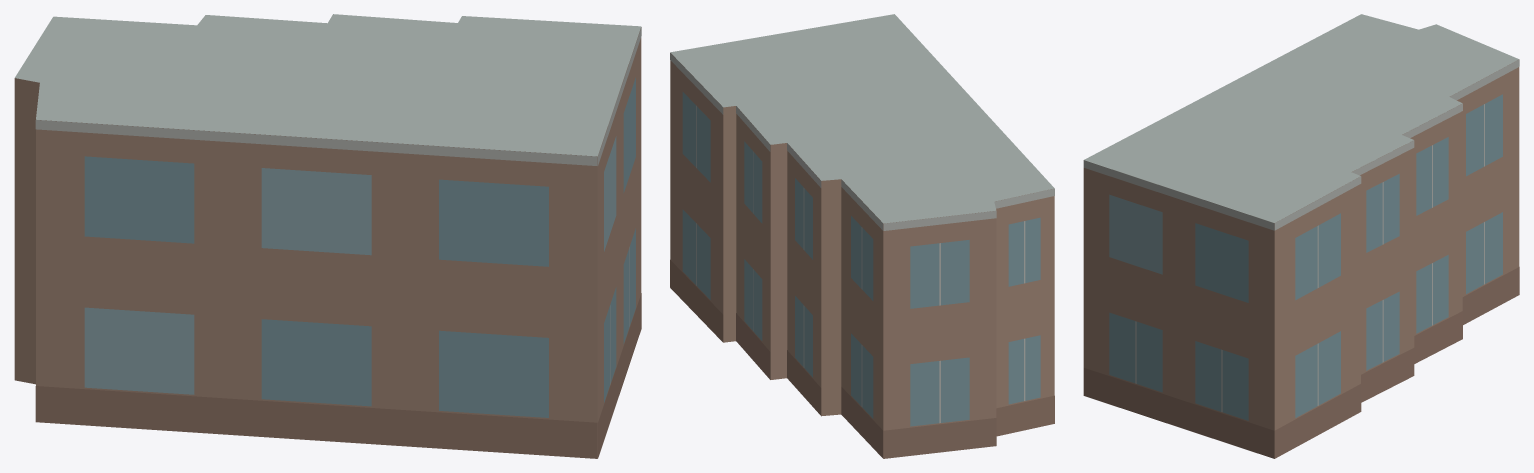
Rendered from survey-upis-32546765.glb.
3 views of the same model, side by side, from view 1: azimuth 30°, elevation 25°; view 2: azimuth 150°, elevation 25°; view 3: azimuth 270°, elevation 25° (orthographic). The views are drawn at different scales.
Visible parts, largest first — view 1: survey-upis-32546765.tmp; view 2: survey-upis-32546765.tmp; view 3: survey-upis-32546765.tmp.
Boxes of the visible parts, bbox=[...] form: survey-upis-32546765.tmp: bbox=[14, 14, 641, 458]; survey-upis-32546765.tmp: bbox=[670, 14, 1054, 458]; survey-upis-32546765.tmp: bbox=[1083, 14, 1519, 458].
Bounding box in the file's own units: 14.47 × 7.6 × 12.74.
